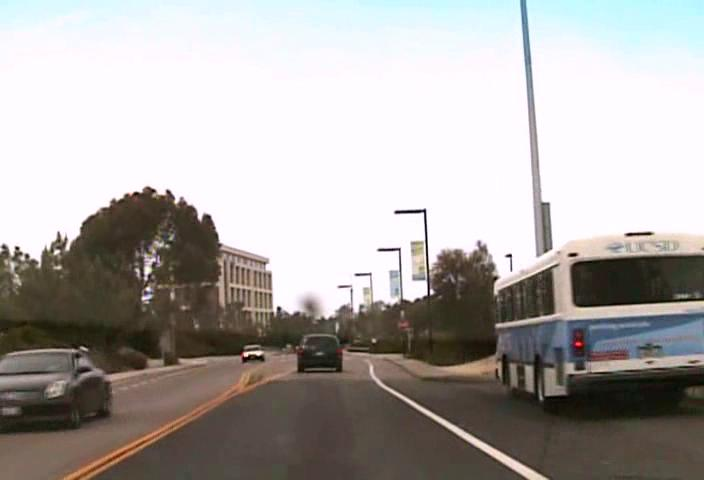stop: (397, 319, 408, 329)
